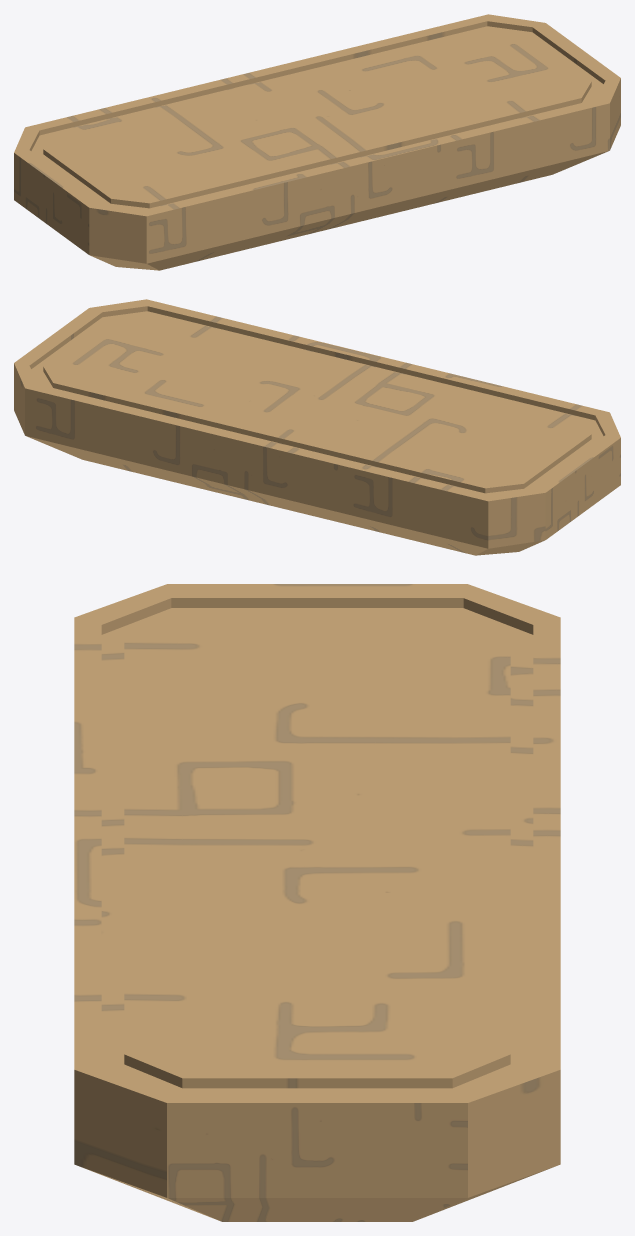
The model's file is Mesh_FloatingPlatformWide.glb.
3 renders of one model, top to bottom at view 1: azimuth 30°, elevation 25°; view 2: azimuth 150°, elevation 25°; view 3: azimuth 270°, elevation 25°, orthographic. The views are drawn at different scales.
Parts seen in each view (by area): view 1: Cube.052; view 2: Cube.052; view 3: Cube.052.
Boxes of the visible parts, <box> form: Cube.052: <box>14,14,620,270</box>; Cube.052: <box>14,299,620,555</box>; Cube.052: <box>74,584,560,1221</box>.
Size of the model in its own units: 22.41 by 3.19 by 8.88.
Materials: 1 (1 with a texture image).
